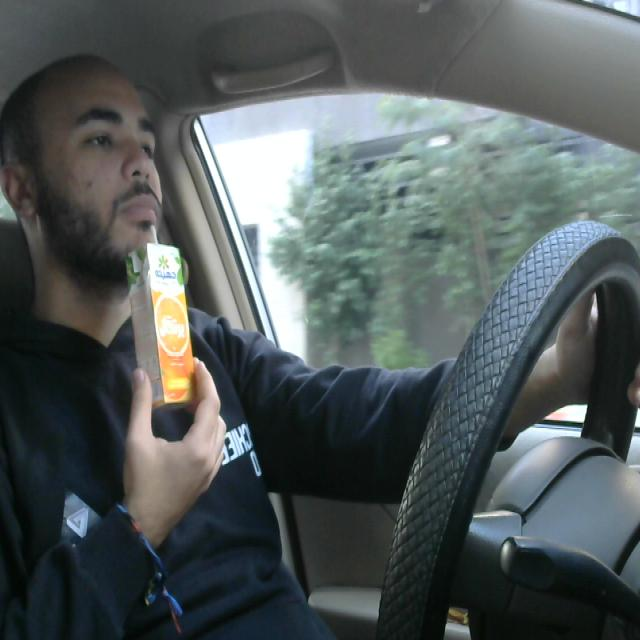drinking: (125, 214, 201, 416)
